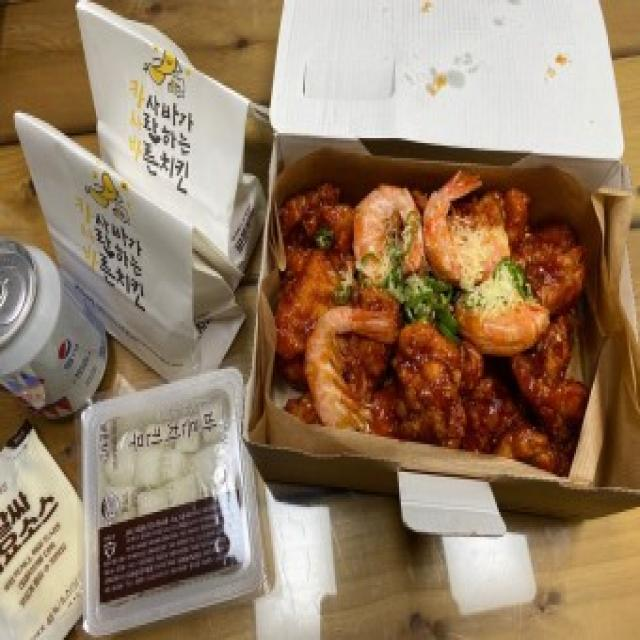Frango: (289, 173, 630, 485)
